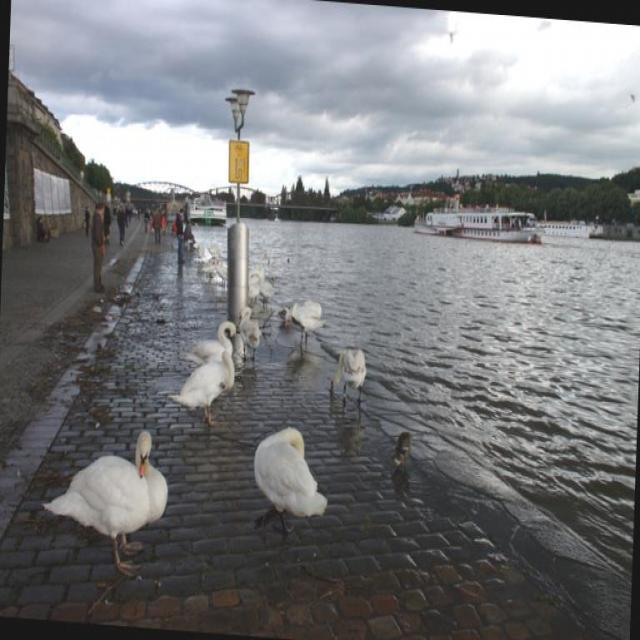flood: (237, 207, 639, 566)
